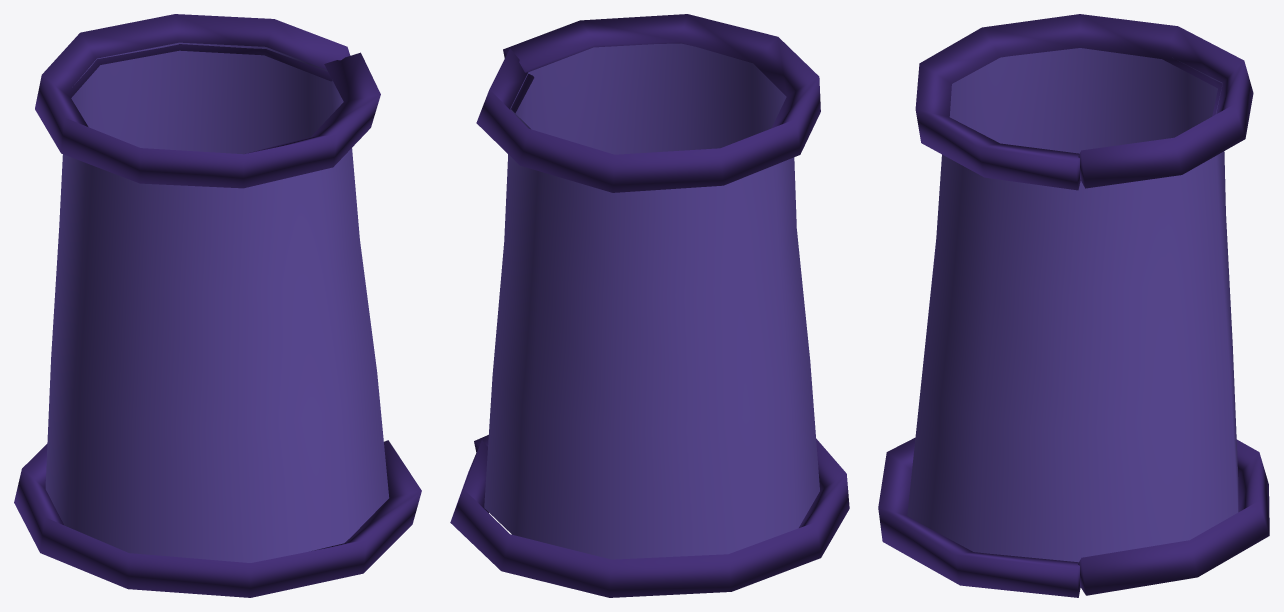
The model's file is demonite_armor_bracer.R.glb.
3 renders of one model, left to right at view 1: azimuth 30°, elevation 25°; view 2: azimuth 150°, elevation 25°; view 3: azimuth 270°, elevation 25°, orthographic.
Parts seen in each view (by area): view 1: demonite_armor_bracer.R; view 2: demonite_armor_bracer.R; view 3: demonite_armor_bracer.R.
Boxes of the visible parts, bbox=[...] form: demonite_armor_bracer.R: bbox=[14, 14, 421, 597]; demonite_armor_bracer.R: bbox=[450, 14, 849, 597]; demonite_armor_bracer.R: bbox=[878, 14, 1269, 597].
Bounding box in the file's own units: 0.1435 × 0.1719 × 0.1408.
